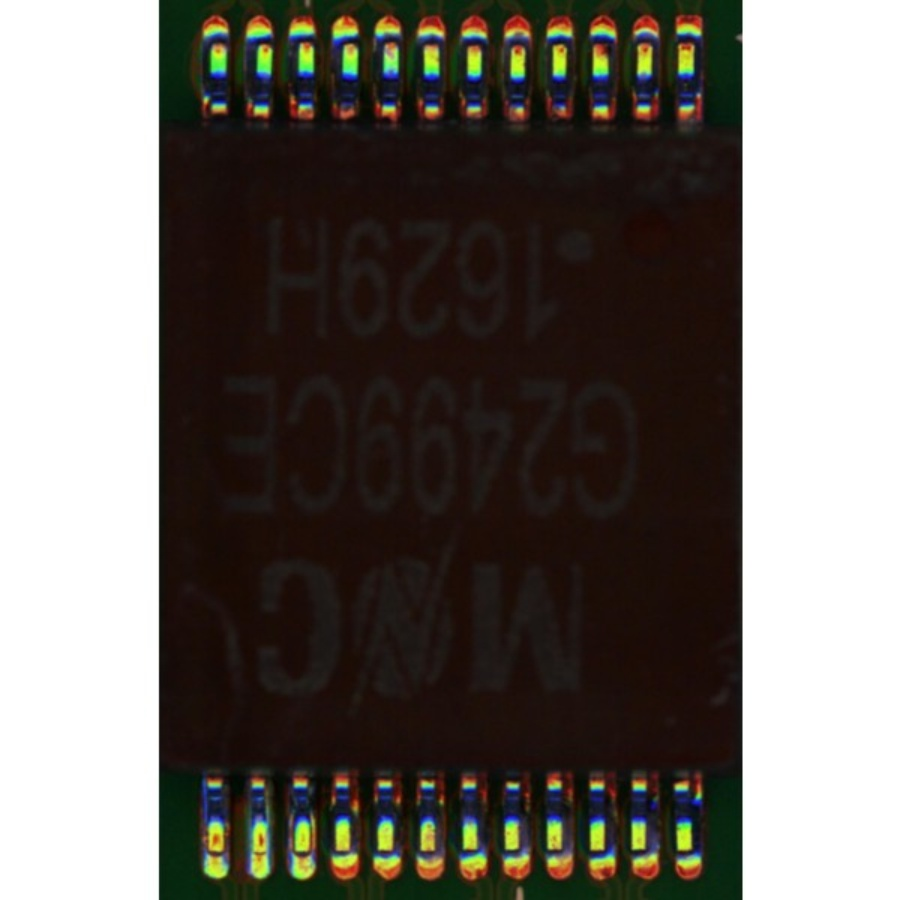Bad_podu: (209, 840, 223, 863), (254, 839, 265, 863), (294, 847, 309, 862)
Bad_qiaojiao: (286, 809, 295, 852), (310, 809, 316, 851)
